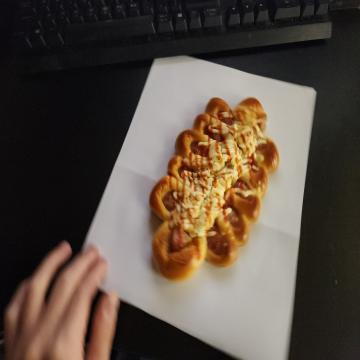pizza_bread: (148, 96, 282, 281)
